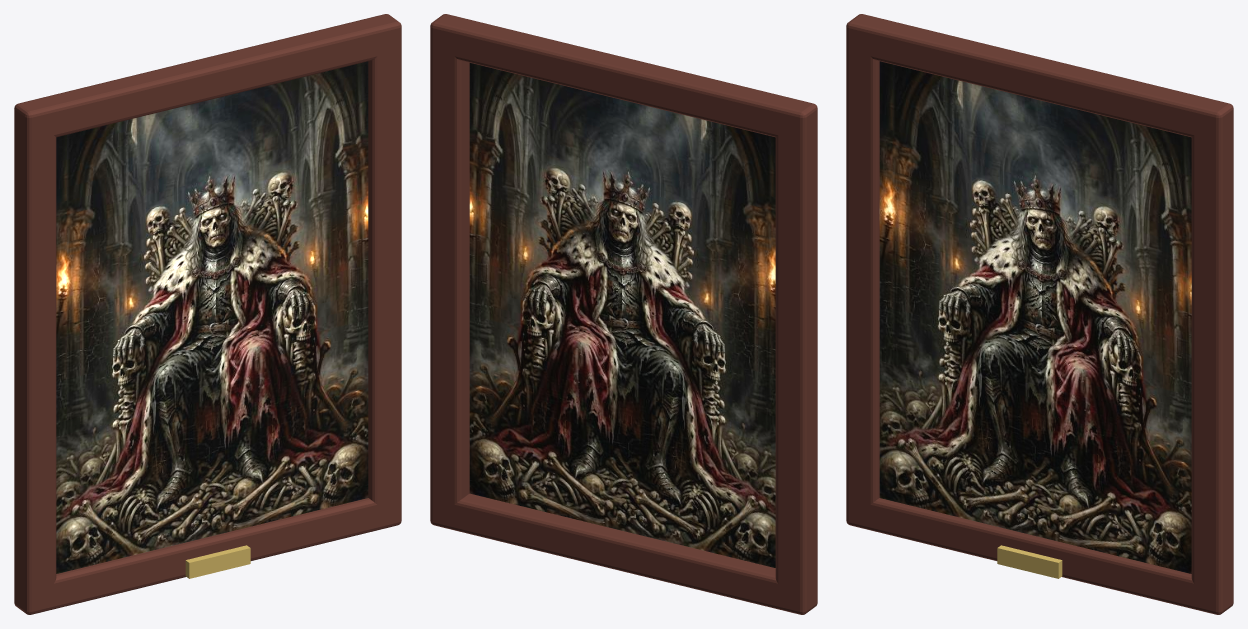
The model's file is art_bone_king.glb.
3 views of the same model, side by side, from view 1: azimuth 30°, elevation 25°; view 2: azimuth 150°, elevation 25°; view 3: azimuth 330°, elevation 25° (orthographic).
Visible parts, largest first — view 1: GD_art_bone_king__m0, GD_art_bone_king__m1, GD_art_bone_king__m2; view 2: GD_art_bone_king__m0, GD_art_bone_king__m1; view 3: GD_art_bone_king__m0, GD_art_bone_king__m1, GD_art_bone_king__m2.
Part boxes in pixels (x1,y1,x2,y2): GD_art_bone_king__m0: (56, 61, 368, 573); GD_art_bone_king__m1: (14, 14, 401, 614); GD_art_bone_king__m2: (185, 545, 250, 578); GD_art_bone_king__m0: (469, 63, 775, 567); GD_art_bone_king__m1: (430, 14, 817, 614); GD_art_bone_king__m0: (879, 61, 1191, 573); GD_art_bone_king__m1: (846, 14, 1233, 614); GD_art_bone_king__m2: (997, 545, 1062, 578).
Size of the model in its own units: 0.86 by 1.1 by 0.0775.
3 materials, 1 textured.
